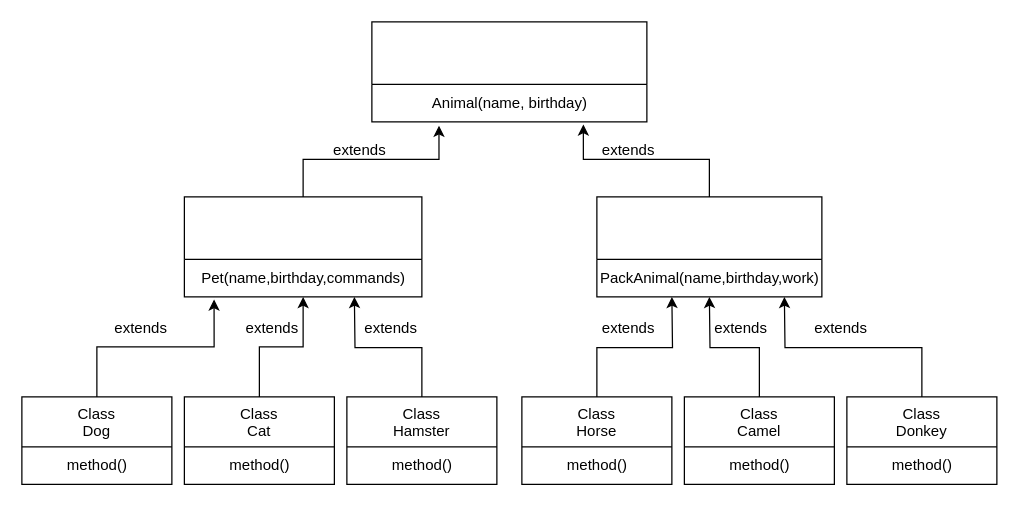
Image size: 1019x506. Some labels were removed from this diagram. The box of each missing label's shape, as (x1, y1, x2, y2) in pixels:
Class Animal: (371, 21, 647, 122)
Class Pack Animal: (596, 196, 822, 297)
Class Pet: (183, 196, 422, 297)
